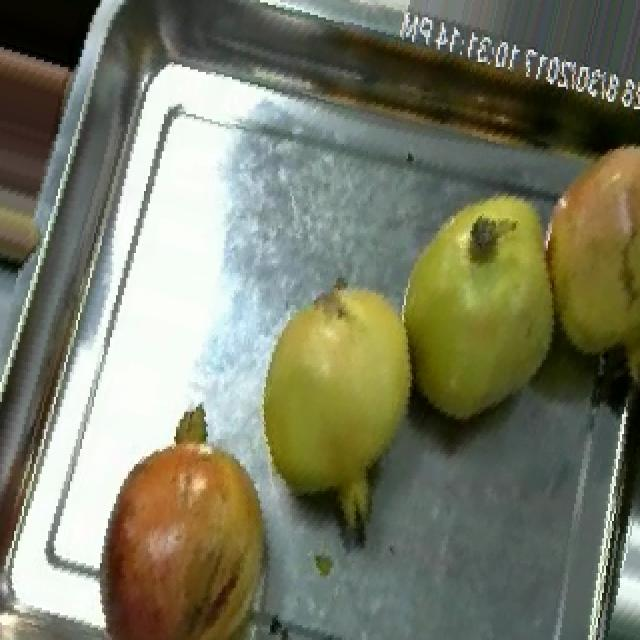fruit: (234, 253, 442, 509), (76, 400, 298, 638)
